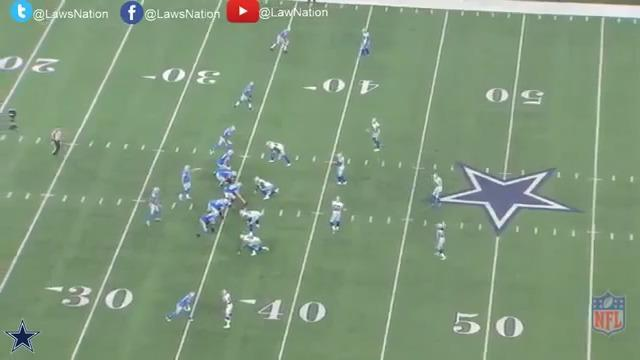player: (164, 290, 196, 323), (144, 183, 164, 227), (238, 233, 269, 259), (233, 81, 258, 113), (265, 141, 293, 169), (431, 221, 448, 264), (221, 182, 246, 211), (218, 289, 235, 331), (328, 197, 346, 236), (253, 176, 279, 203), (211, 123, 236, 151), (368, 116, 386, 154), (198, 210, 223, 237), (236, 207, 263, 232), (269, 28, 291, 57), (177, 163, 193, 201), (334, 151, 350, 189), (207, 197, 232, 221), (356, 29, 373, 62), (429, 174, 444, 211), (215, 167, 238, 190), (214, 150, 234, 175)
ref: (48, 126, 65, 159)
